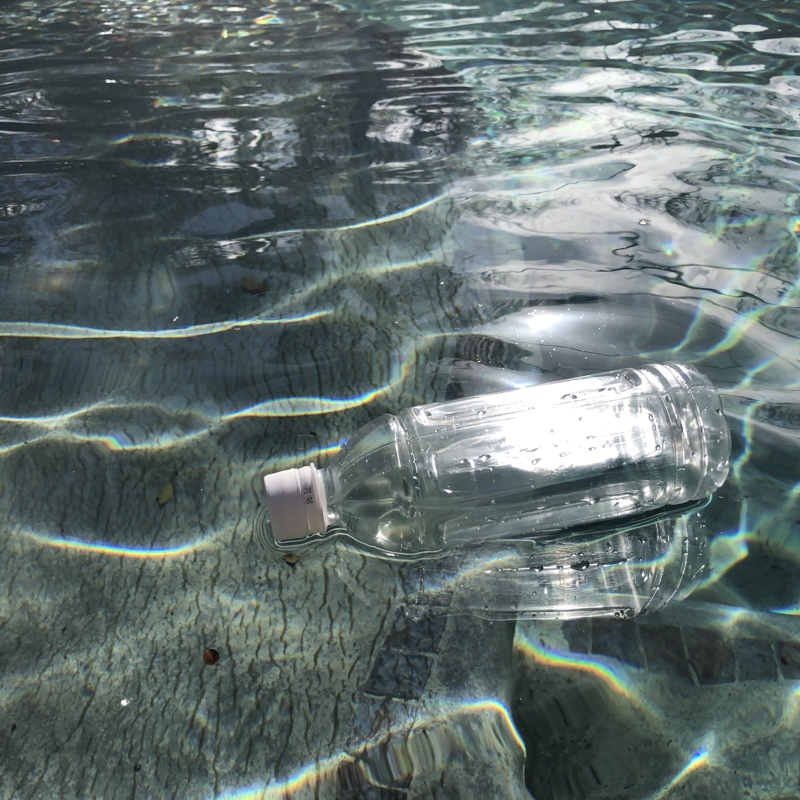Plastic Bottle: (259, 357, 737, 565)
